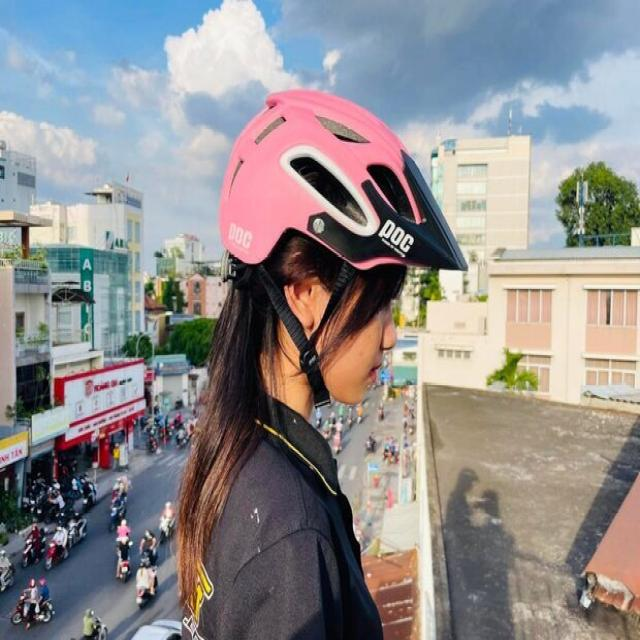Helmet: (196, 82, 471, 442)
